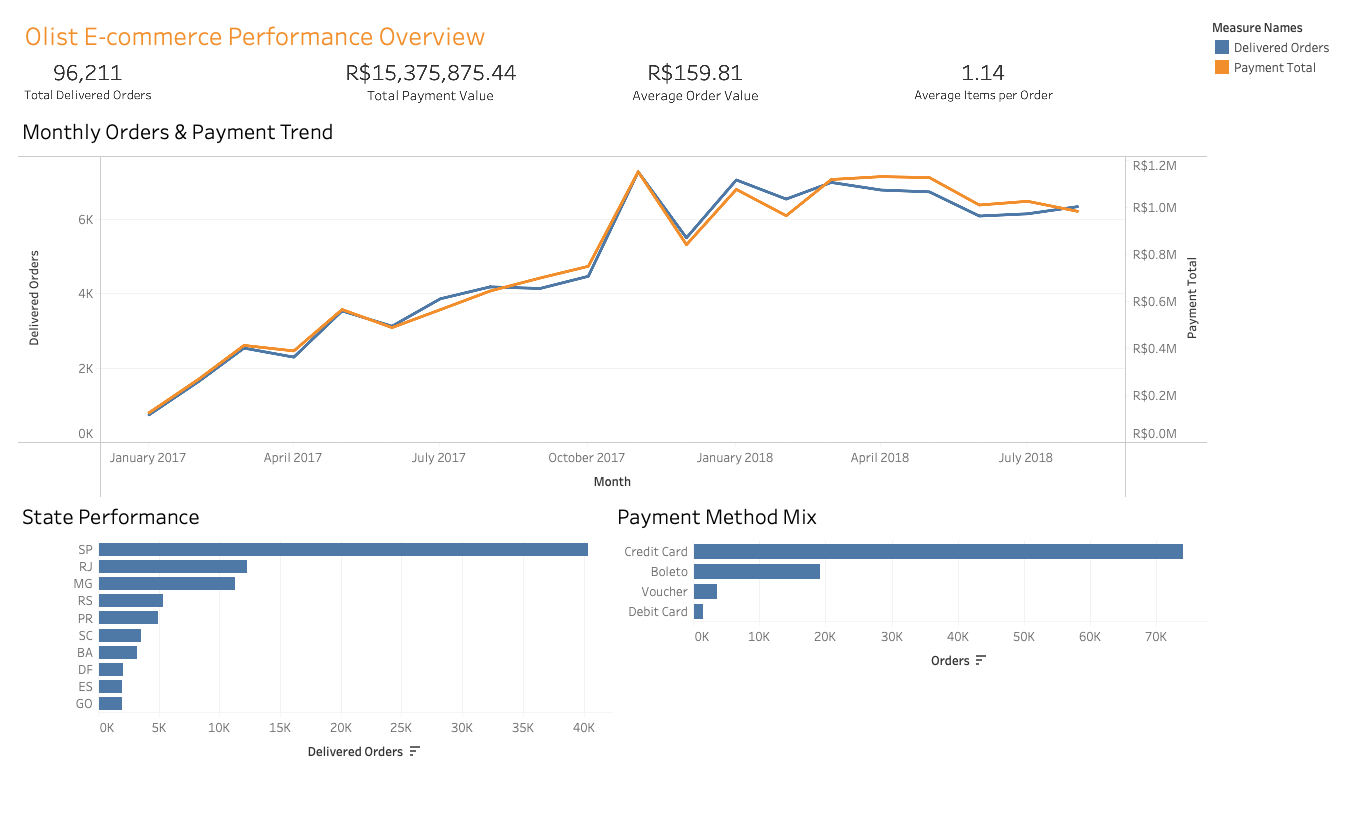

This screenshot's page, from the dashboard's own definition file:
{"tool":"tableau","page":{"name":"Olist E-commerce Performance Overview","canvas":[1366,768],"ordinal":2},"visuals":[{"type":"title","box":[8,8,1190,42]},{"type":"legend","title":"Overview - Monthly Orders & Payment Trend","param":"[federated.11e8d0r17yptdw18lkg7r1svhwyy].[:Measure Names]","box":[1198,8,160,66]},{"type":"worksheet","title":"KPI - Total Delivered Orders","mark":"Automatic","box":[8,50,322.6,55.7]},{"type":"worksheet","title":"KPI - Total Payment Value","mark":"Automatic","box":[330.6,50,259.2,55.7]},{"type":"worksheet","title":"KPI-Average Order Value","mark":"Automatic","box":[590,50,304,56]},{"type":"worksheet","title":"KPI -  Average Items per Order","mark":"Automatic","box":[894,50,304,56]},{"type":"worksheet","title":"Overview - Monthly Orders & Payment Trend","mark":"Automatic","rows":["order_id","payment_total"],"cols":["order_purchase_timestamp"],"box":[8,105.7,1190,385.2]},{"type":"worksheet","title":"Overview - State Performance ","mark":"Automatic","rows":["customer_state"],"cols":["order_id"],"box":[8,490.9,595,269.1]},{"type":"worksheet","title":"Overview - Payment Method Mix","mark":"Automatic","rows":["payment_type"],"cols":["orders_using_payment_type"],"box":[603,491,595,269]}]}

Visuals, with their boxes on the page's 1366x768 design canvas (x1, y1, x2, y2). These are canvas units, not pixel positions in the 1372x821 screenshot, which may show the page scaled, cropped or inside an application window:
title: detection(8, 8, 1198, 50)
"Overview - Monthly Orders & Payment Trend" legend: detection(1198, 8, 1358, 74)
"KPI - Total Delivered Orders" worksheet: detection(8, 50, 331, 106)
"KPI - Total Payment Value" worksheet: detection(331, 50, 590, 106)
"KPI-Average Order Value" worksheet: detection(590, 50, 894, 106)
"KPI -  Average Items per Order" worksheet: detection(894, 50, 1198, 106)
"Overview - Monthly Orders & Payment Trend" worksheet: detection(8, 106, 1198, 491)
"Overview - State Performance " worksheet: detection(8, 491, 603, 760)
"Overview - Payment Method Mix" worksheet: detection(603, 491, 1198, 760)
